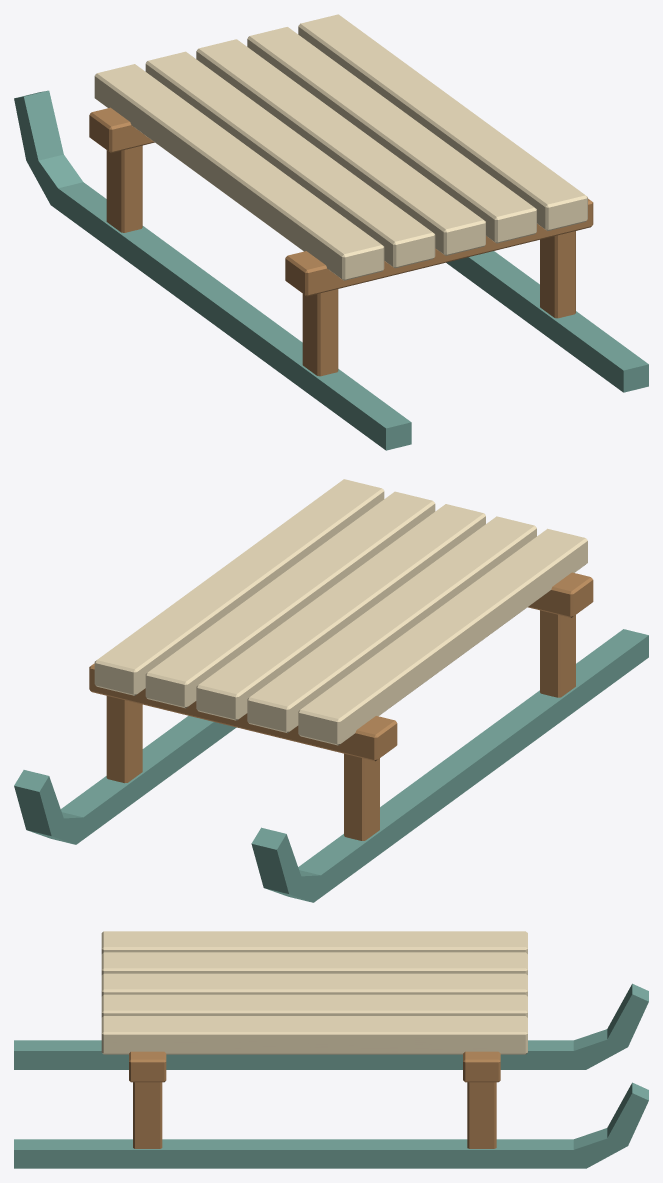
The picture shows the model from 3 angles, top to bottom: view 1: azimuth 30°, elevation 25°; view 2: azimuth 150°, elevation 25°; view 3: azimuth 270°, elevation 25°; orthographic projection. The views are drawn at different scales.
Parts seen in each view (by area): view 1: winter-wood-sled-01; view 2: winter-wood-sled-01; view 3: winter-wood-sled-01.
Boxes of the visible parts, bbox=[...] form: winter-wood-sled-01: bbox=[14, 14, 648, 450]; winter-wood-sled-01: bbox=[14, 479, 648, 902]; winter-wood-sled-01: bbox=[14, 931, 648, 1168].
Size of the model in its own units: 0.68 by 0.35 by 1.52.
